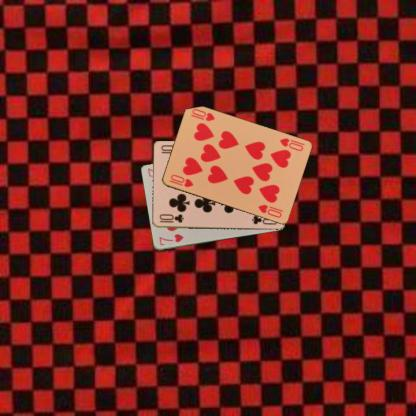10c: (156, 212, 185, 223)
10h: (277, 135, 304, 153), (167, 172, 194, 189)
7h: (156, 232, 185, 246)
